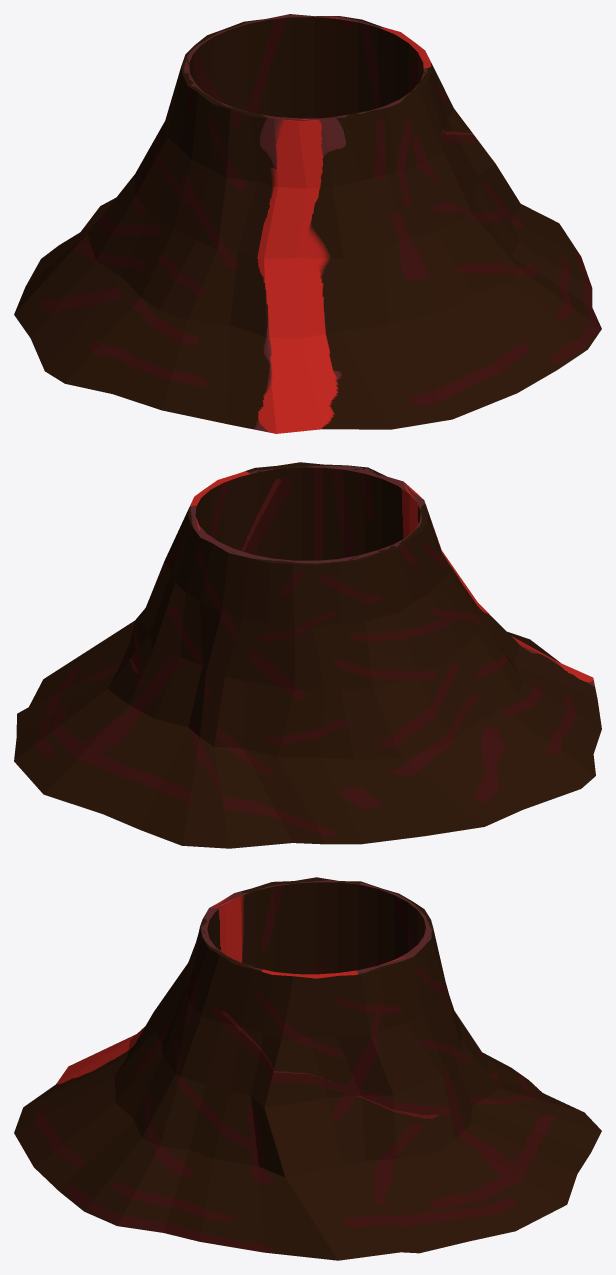
File: volcano2.glb
The picture shows the model from 3 angles, top to bottom: view 1: azimuth 30°, elevation 25°; view 2: azimuth 150°, elevation 25°; view 3: azimuth 270°, elevation 25°; orthographic projection. The views are drawn at different scales.
Visible parts, largest first — view 1: Cylinder; view 2: Cylinder; view 3: Cylinder.
Part boxes in pixels (x1,y1,x2,y2): Cylinder: [14, 14, 601, 433]; Cylinder: [14, 462, 601, 848]; Cylinder: [14, 877, 601, 1260].
Size of the model in its own units: 17.78 by 7.29 by 18.11.
Materials: 1 (1 with a texture image).
